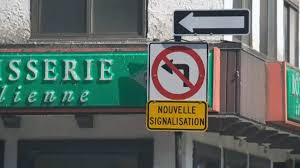No_left_turn: (152, 46, 205, 100)
